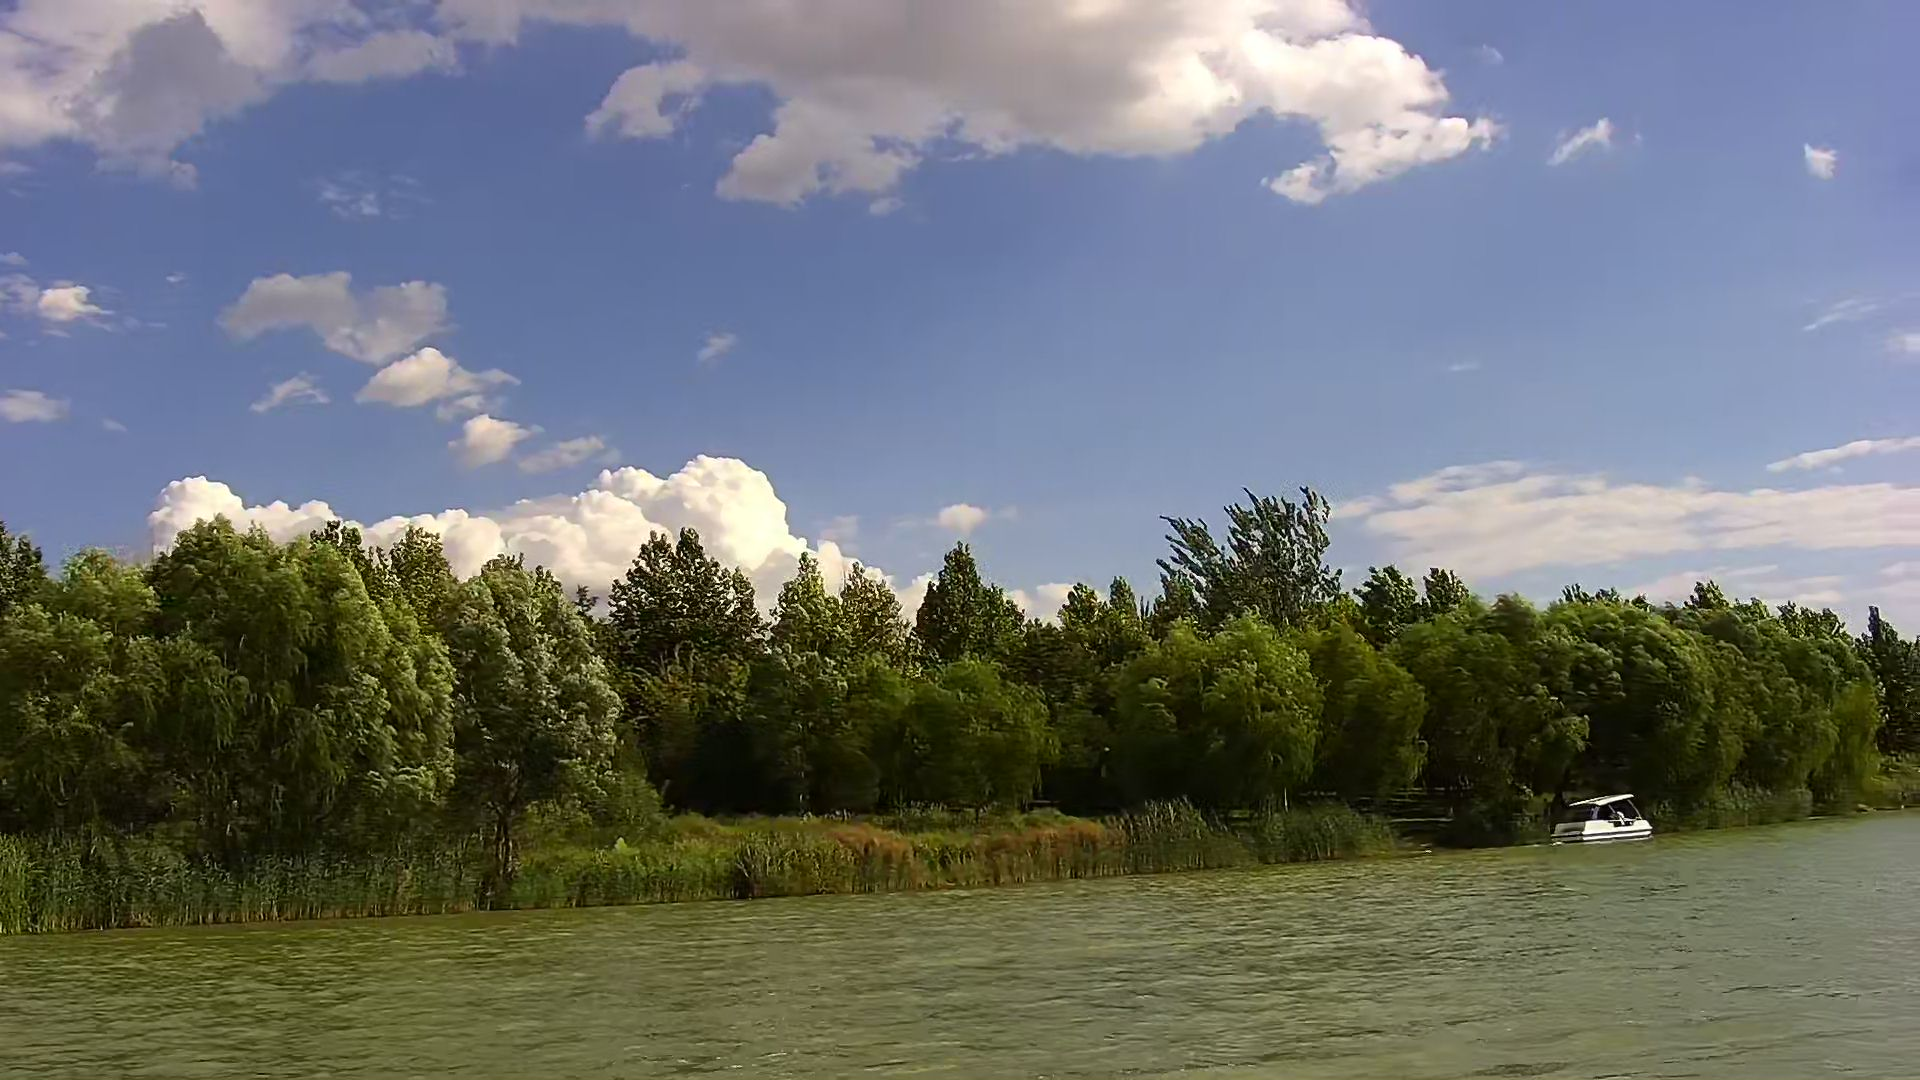boat: (1549, 791, 1654, 844)
